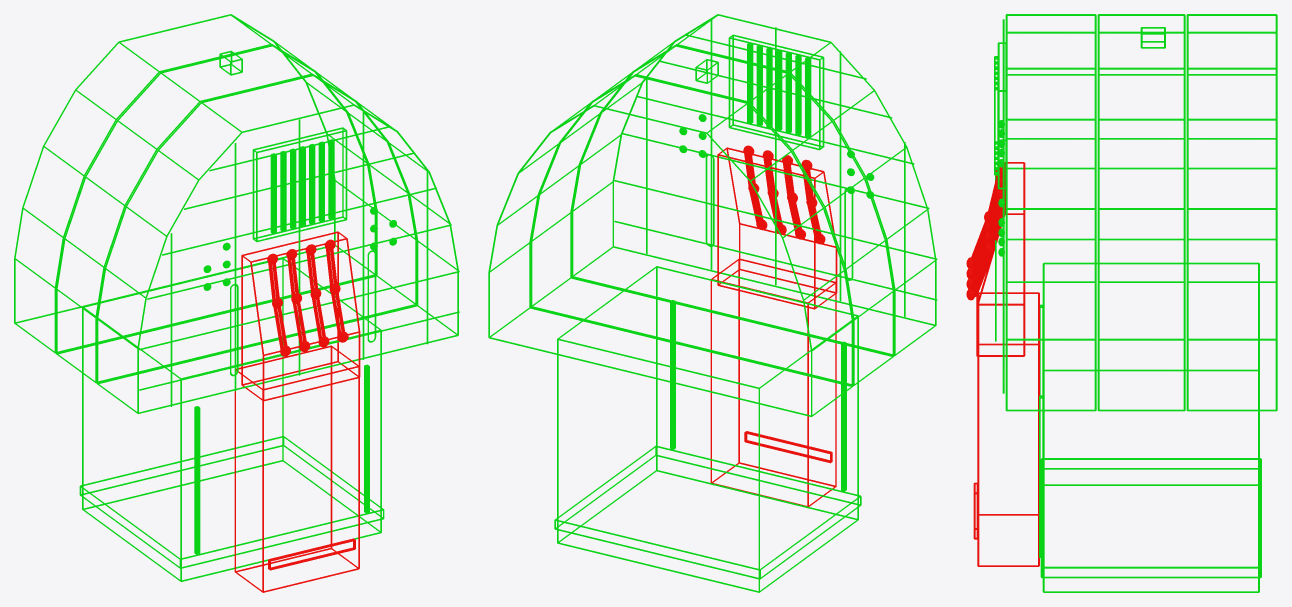
Rendered from improved-sensors-highlight-data-collector.glb.
The picture shows the model from 3 angles, left to right: view 1: azimuth 30°, elevation 25°; view 2: azimuth 150°, elevation 25°; view 3: azimuth 270°, elevation 25°; orthographic projection. The views are drawn at different scales.
Parts seen in each view (by area): view 1: chassis technical wire, data-collector technical wire, calibration-indicators technical wire, shielding-coils technical wire; view 2: chassis technical wire, data-collector technical wire, calibration-indicators technical wire, shielding-coils technical wire; view 3: chassis technical wire, data-collector technical wire, calibration-indicators technical wire.
Part boxes in pixels (x1,y1,x2,y2): chassis technical wire: (14,14,459,581); data-collector technical wire: (234,231,360,592); calibration-indicators technical wire: (203,127,396,290); shielding-coils technical wire: (230,250,376,376); chassis technical wire: (488,14,937,592); data-collector technical wire: (710,145,837,506); calibration-indicators technical wire: (679,34,874,198); shielding-coils technical wire: (705,154,853,280); chassis technical wire: (1002,14,1277,592); data-collector technical wire: (966,162,1039,566); calibration-indicators technical wire: (994,42,1005,256).
Bounding box in the file's own units: 2.08 × 2.88 × 1.59.
